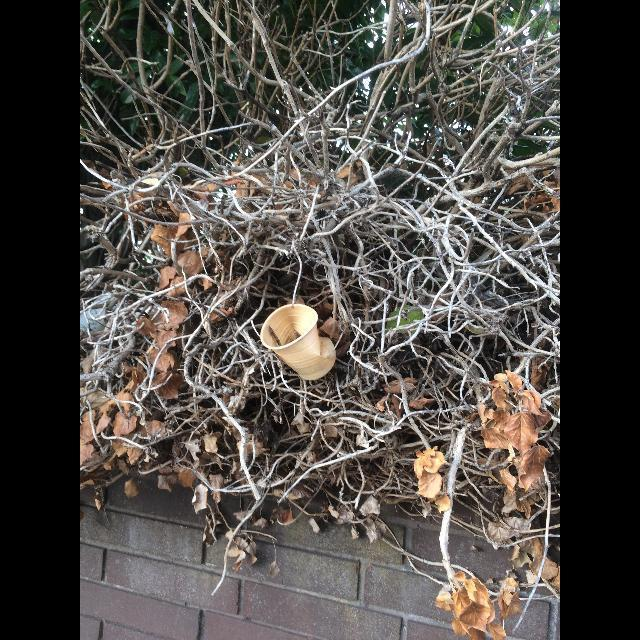Plastic: (260, 304, 336, 380)
